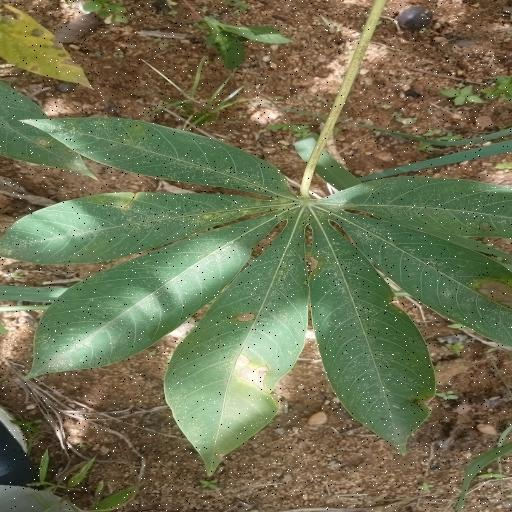Cassava_Brown_Leaf_Spot: (9, 112, 512, 465)
